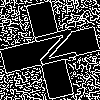N: (25, 25, 78, 71)
